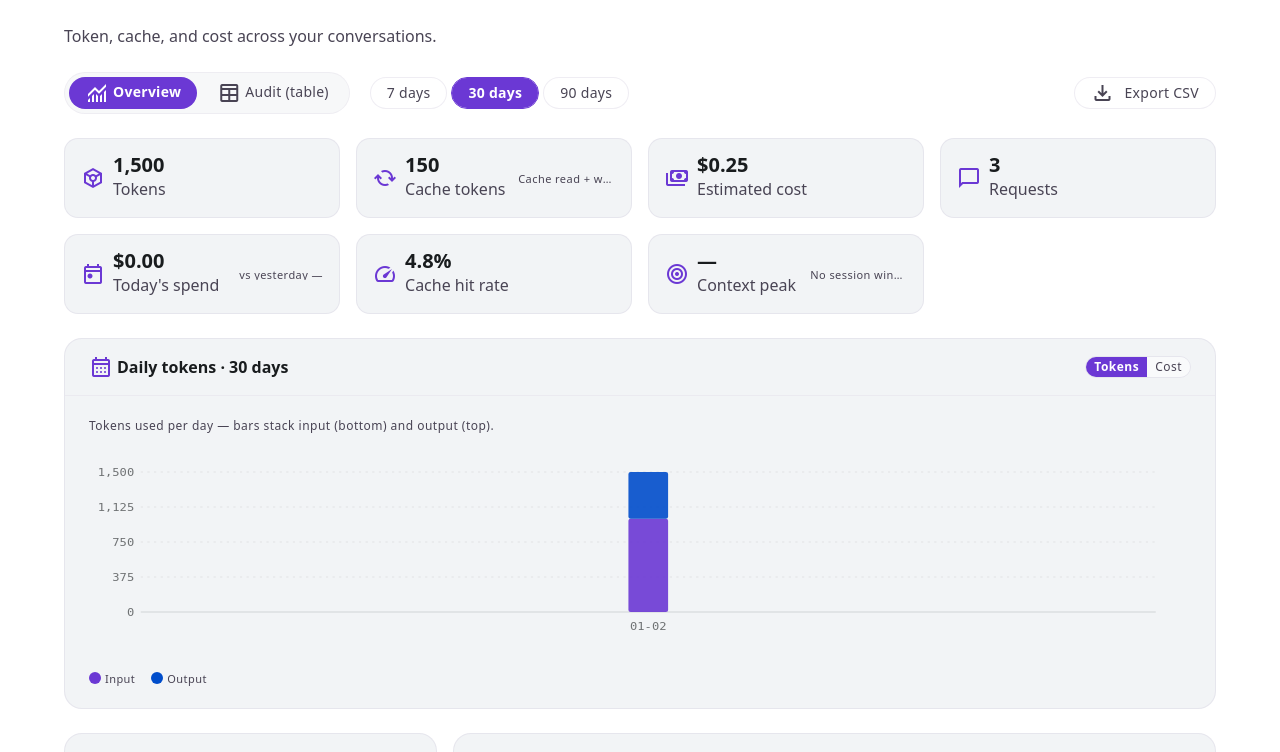
Test: Usage page › switches the daily chart between the Token and cost metric
The image size is (1280, 752).
Expected: the heading "Daily tokens · 30 days" is shown, [117,355,288,379]
Click the button "Cost": (1169, 367) [1147,357,1190,377]
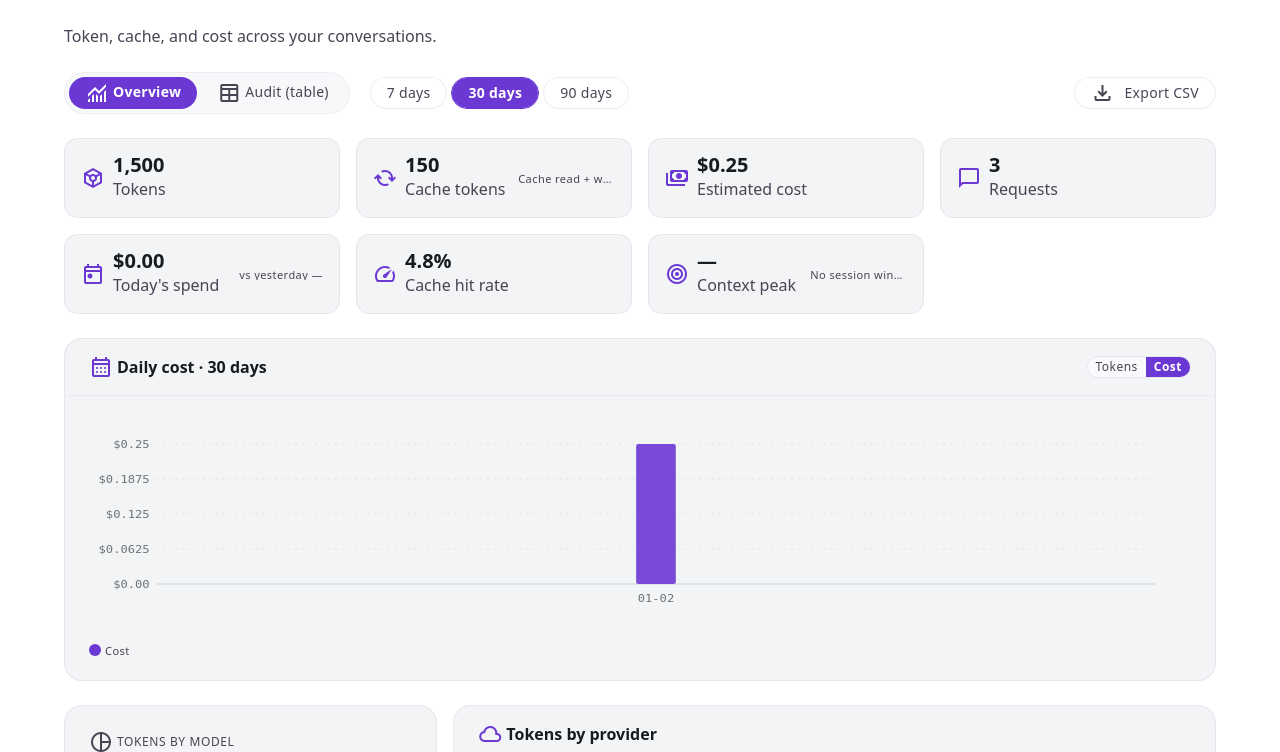
Expected: the heading "Daily cost · 30 days" is shown, [117,355,267,379]
Expected: the heading "Daily tokens · 30 days" is gone
Click the button "Tokens": (1117, 367) [1088,357,1146,377]
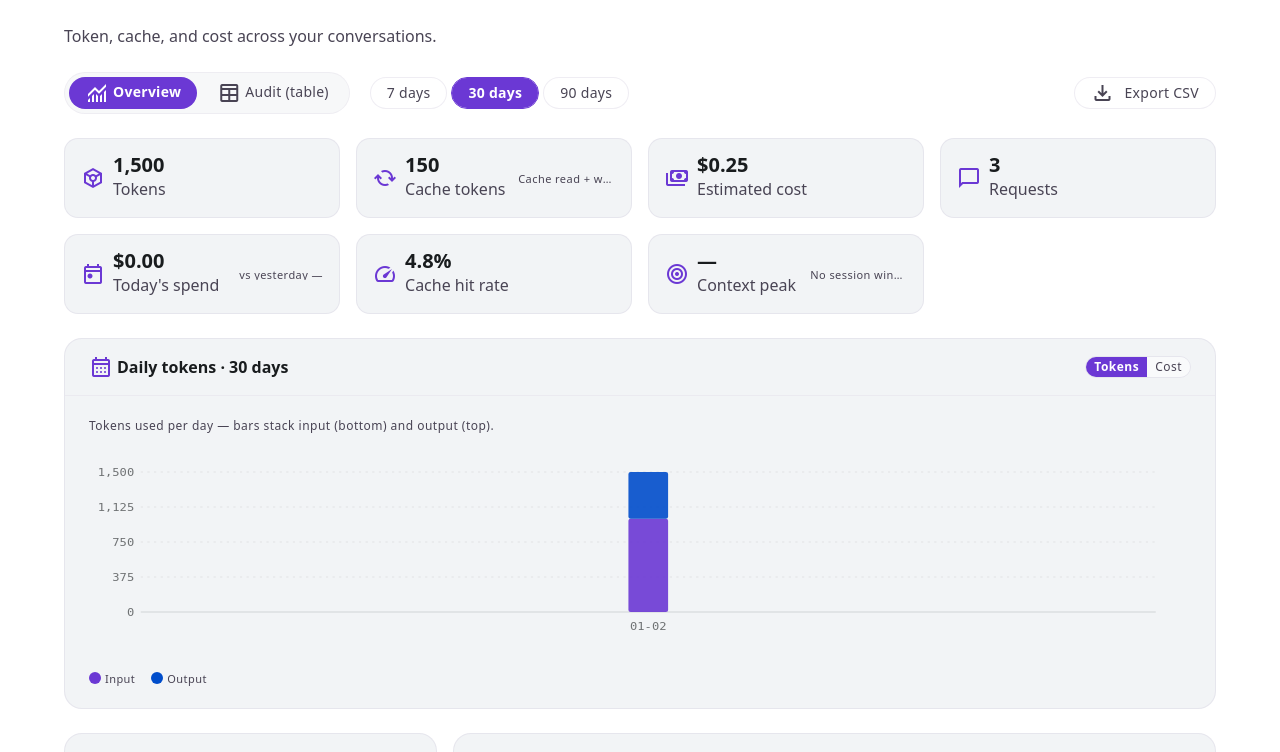
Expected: the heading "Daily tokens · 30 days" is shown, [117,355,288,379]
